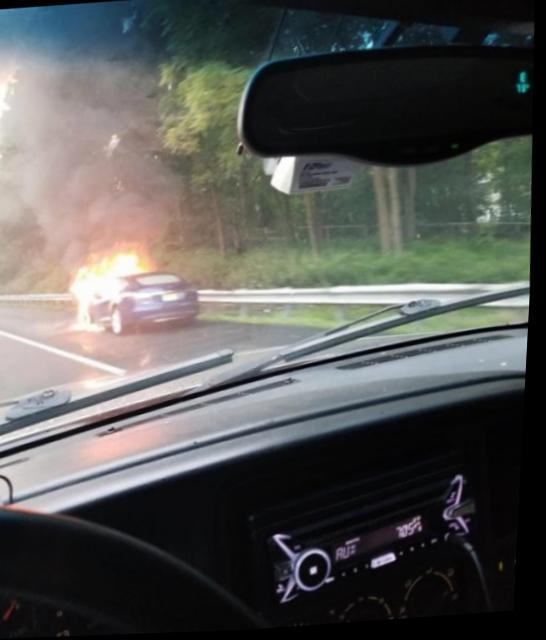fire: (68, 239, 157, 340)
